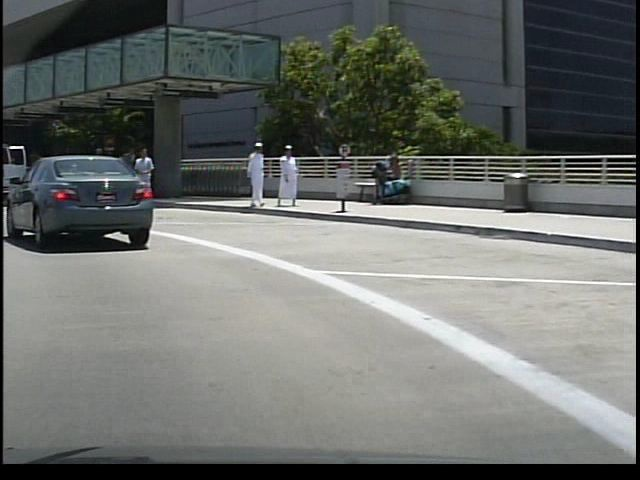person: (238, 137, 269, 215), (126, 141, 157, 219), (270, 141, 297, 209)
